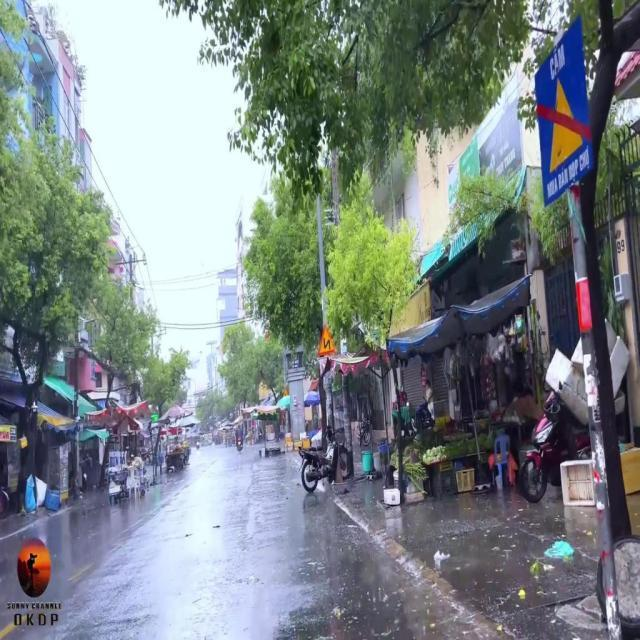201-cho-ngoat-nguy-hiem: (318, 324, 336, 356)
